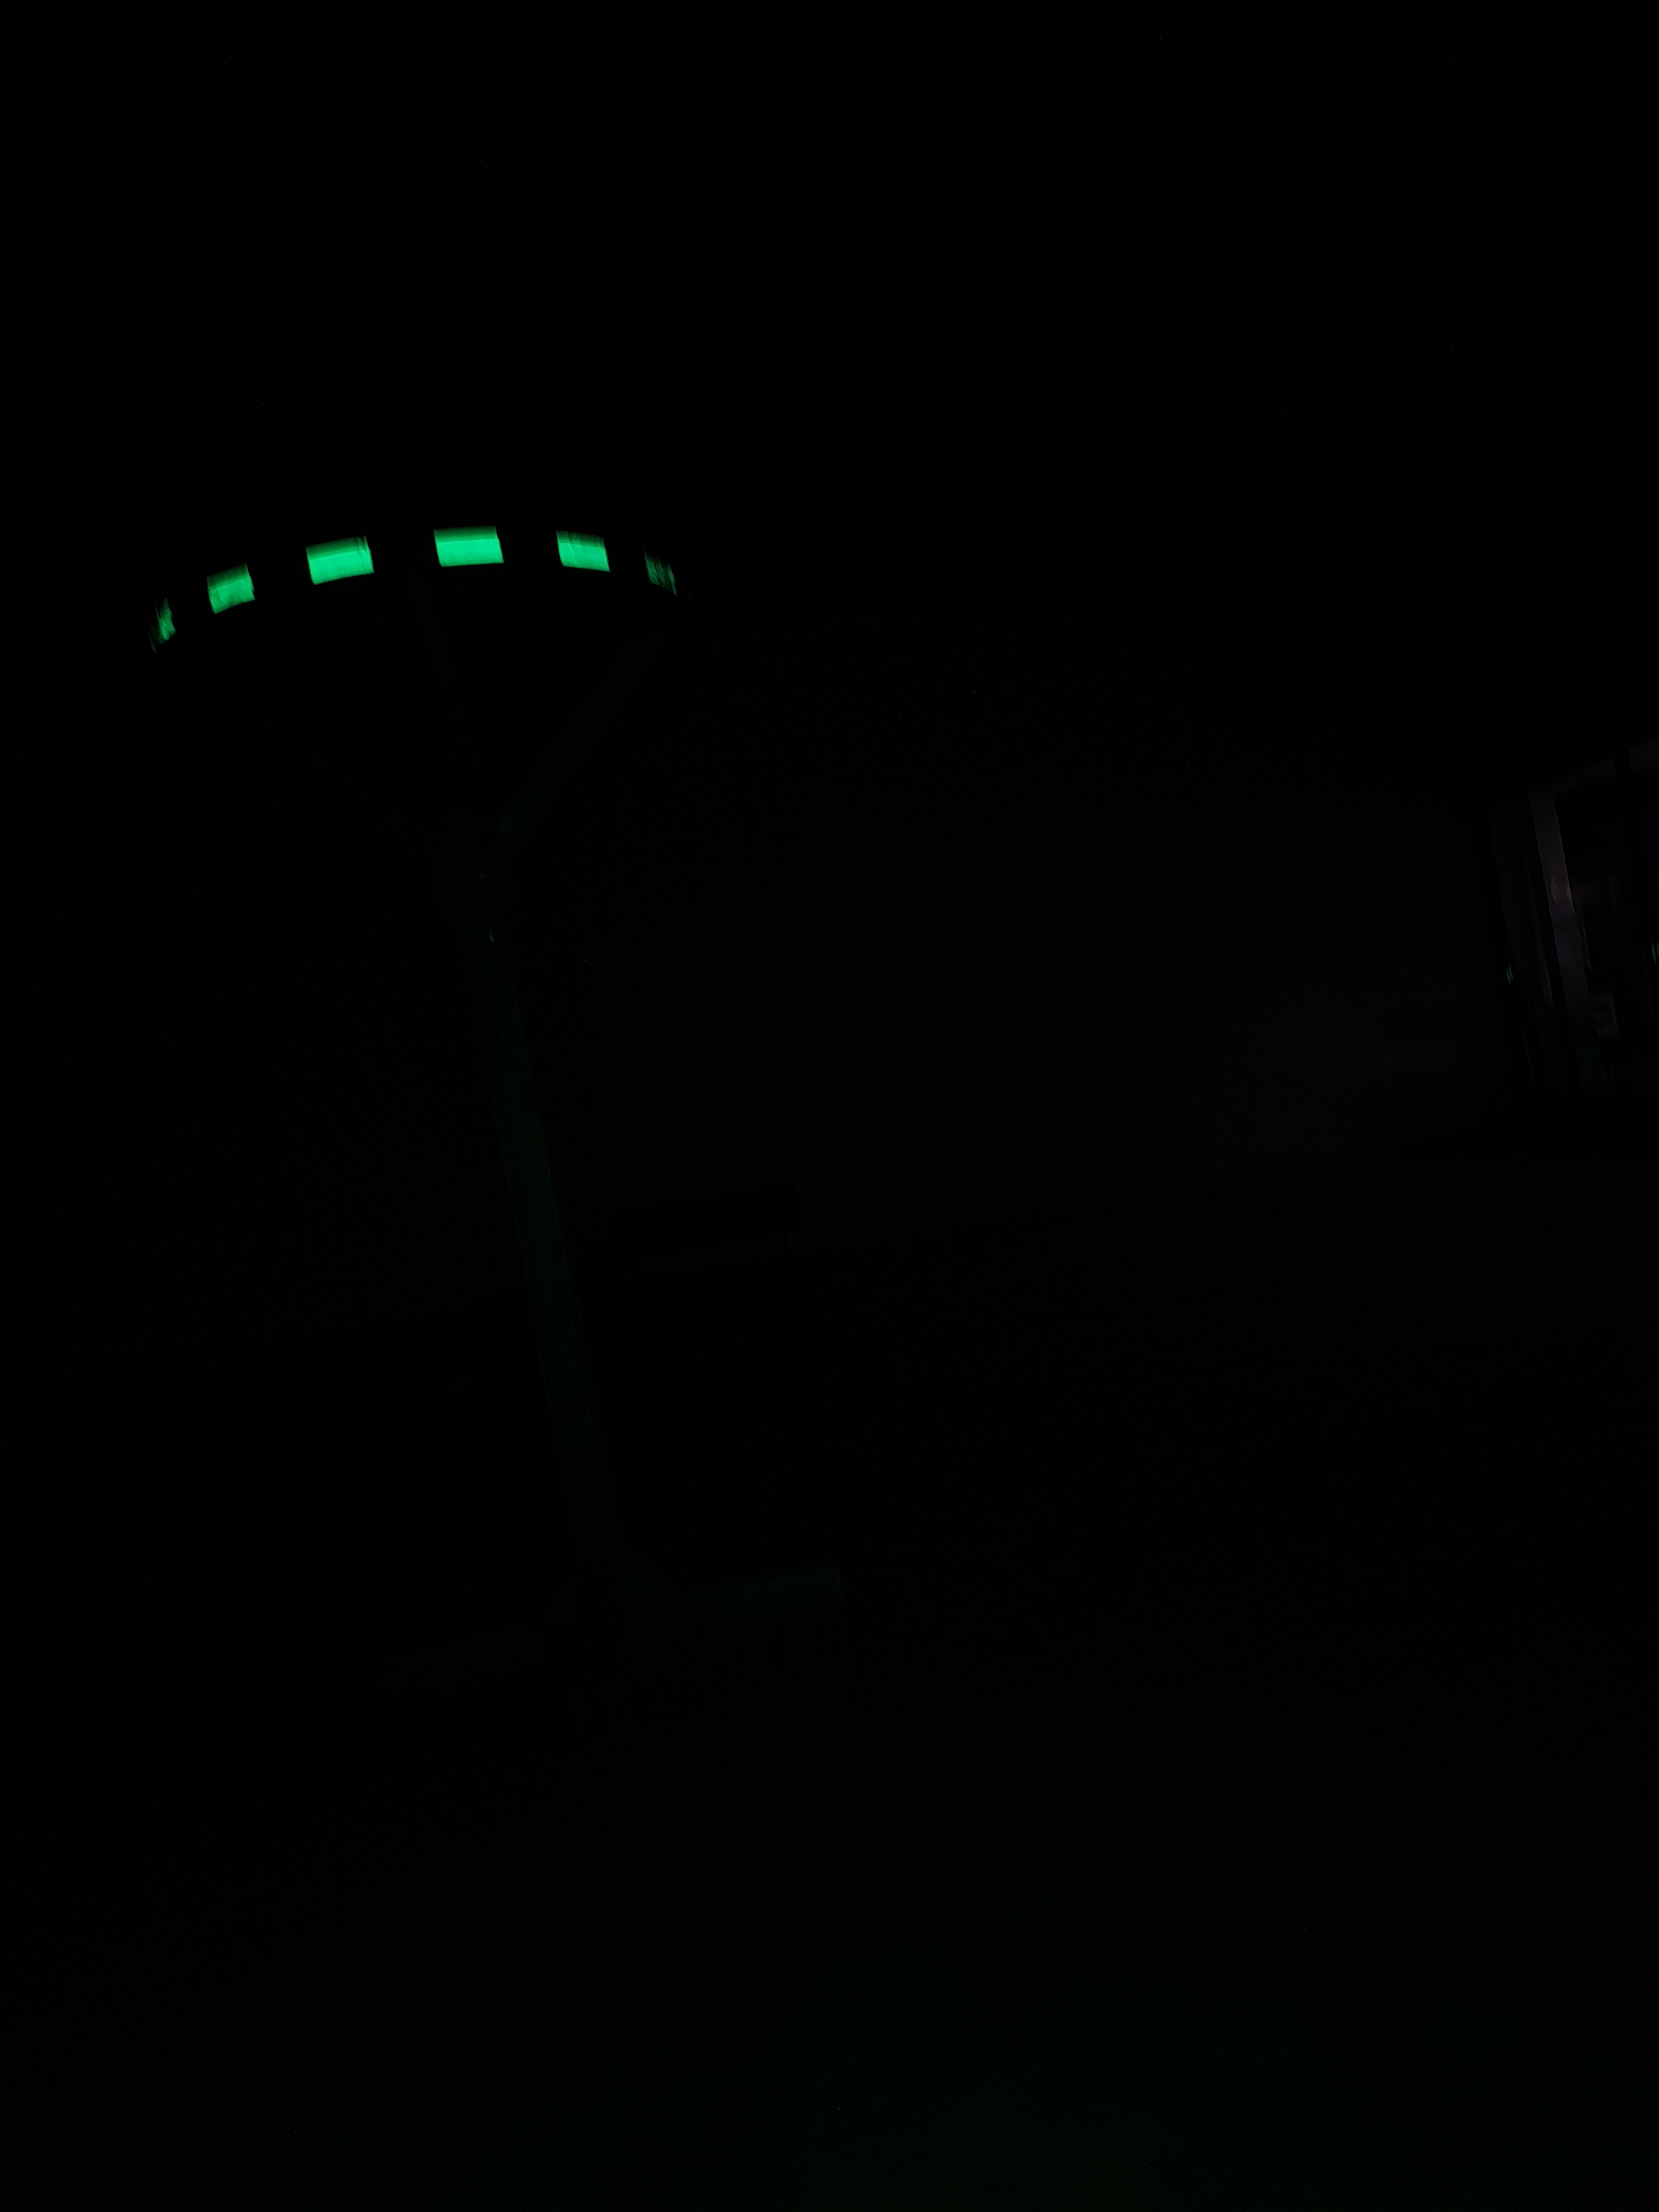hoop: (146, 516, 683, 657)
